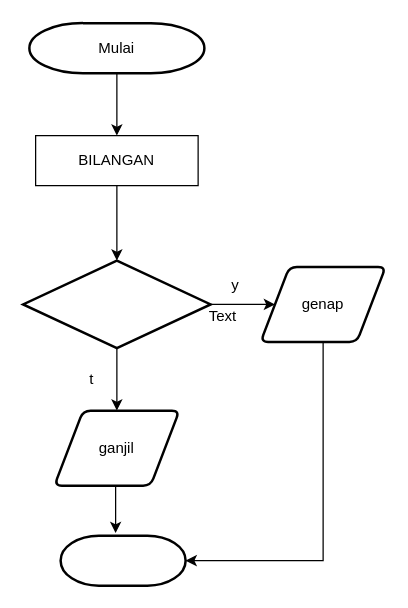
Some shapes in this 408 by 608 pixel diagram are drawn without their labels. The centre of each missing label's shape, as x and y in pixels:
"bil%2== 0" goes at point (116, 304).
"END" goes at point (122, 560).
